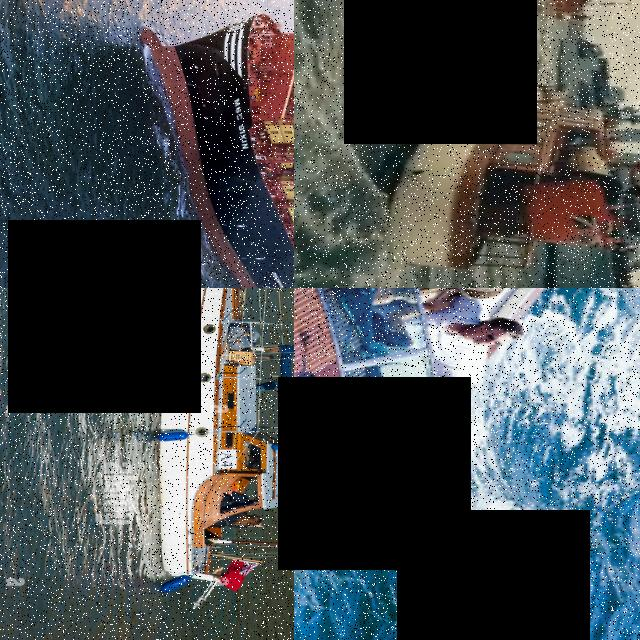boat: (295, 289, 640, 531), (109, 289, 295, 615), (359, 73, 629, 287), (533, 1, 635, 33)
cargo ship: (130, 15, 295, 289)
warship: (547, 35, 640, 289)
